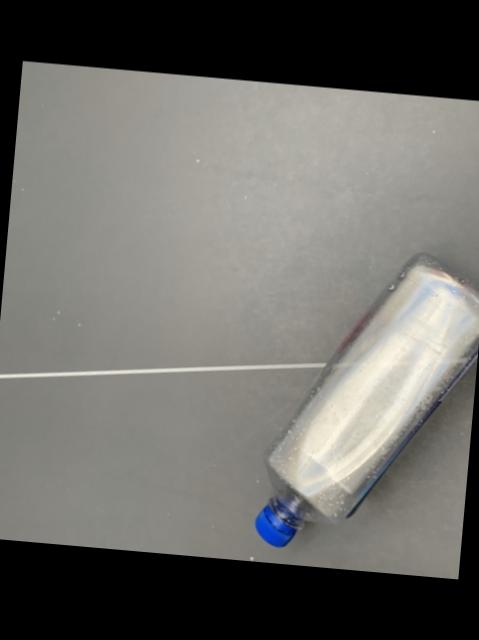plastic: (253, 252, 479, 545)
